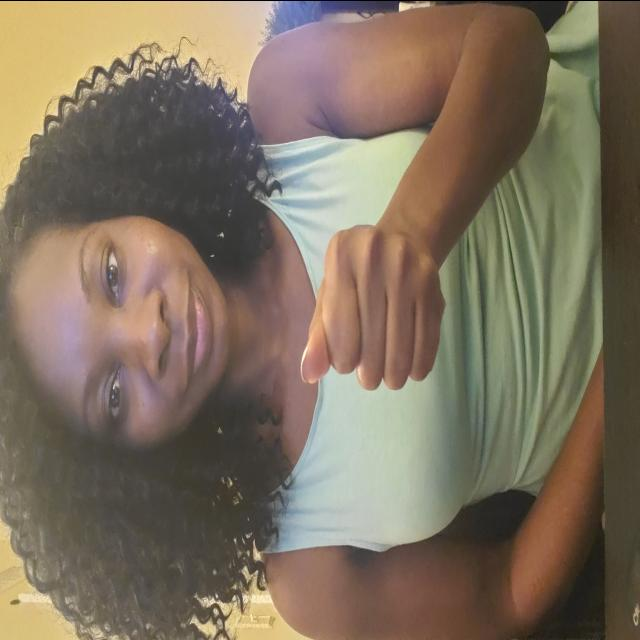Rock: (278, 216, 456, 396)
